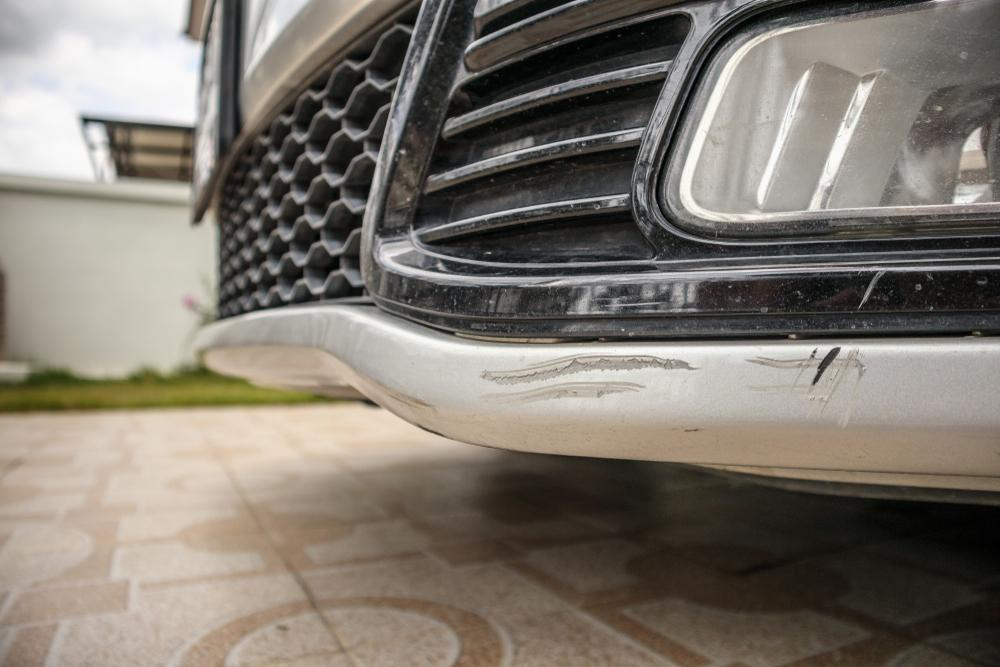scratch: (458, 342, 866, 427)
